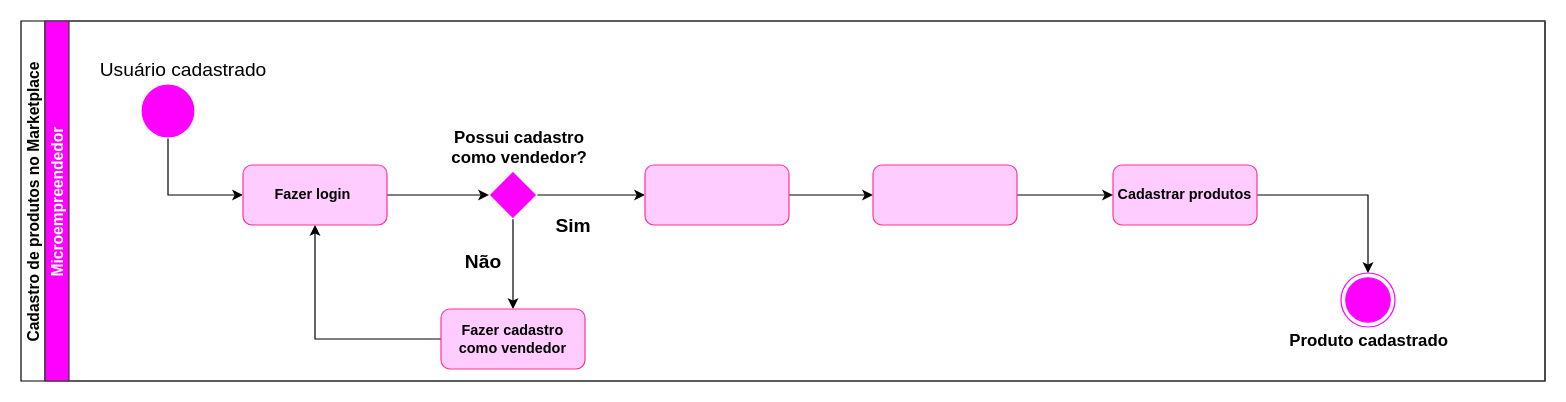
Some shapes in this 1566 by 402 pixel diagram are drawn without their labels. Each missing label, with the centre of its shape:
"Trocar perfil para vendedor" goes at (716,194).
"Visualizar seu painel" goes at (944,194).
